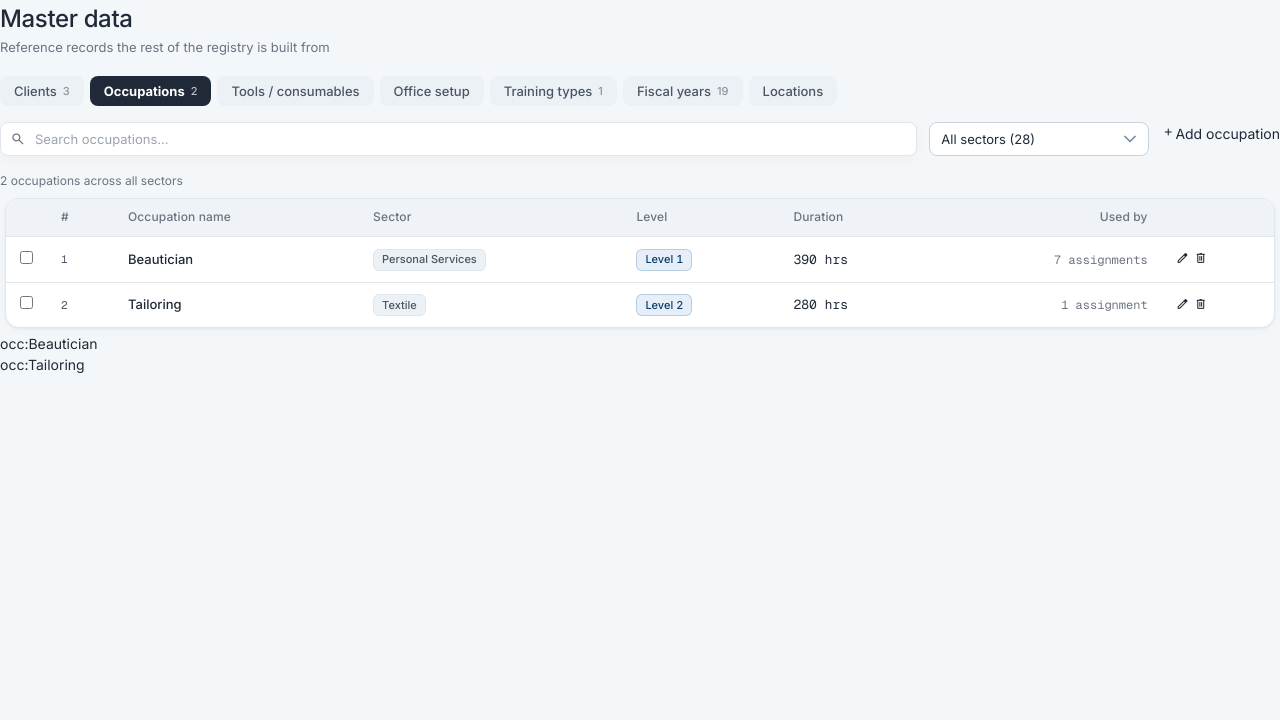
Test: merging occupations from Master Data › removes the merged occupation from every consumer, not just this table
The width and height of the screenshot is (1280, 720).
Click the checkbox named "Select Beautician for merging" at (26, 257), box [20, 251, 33, 264]
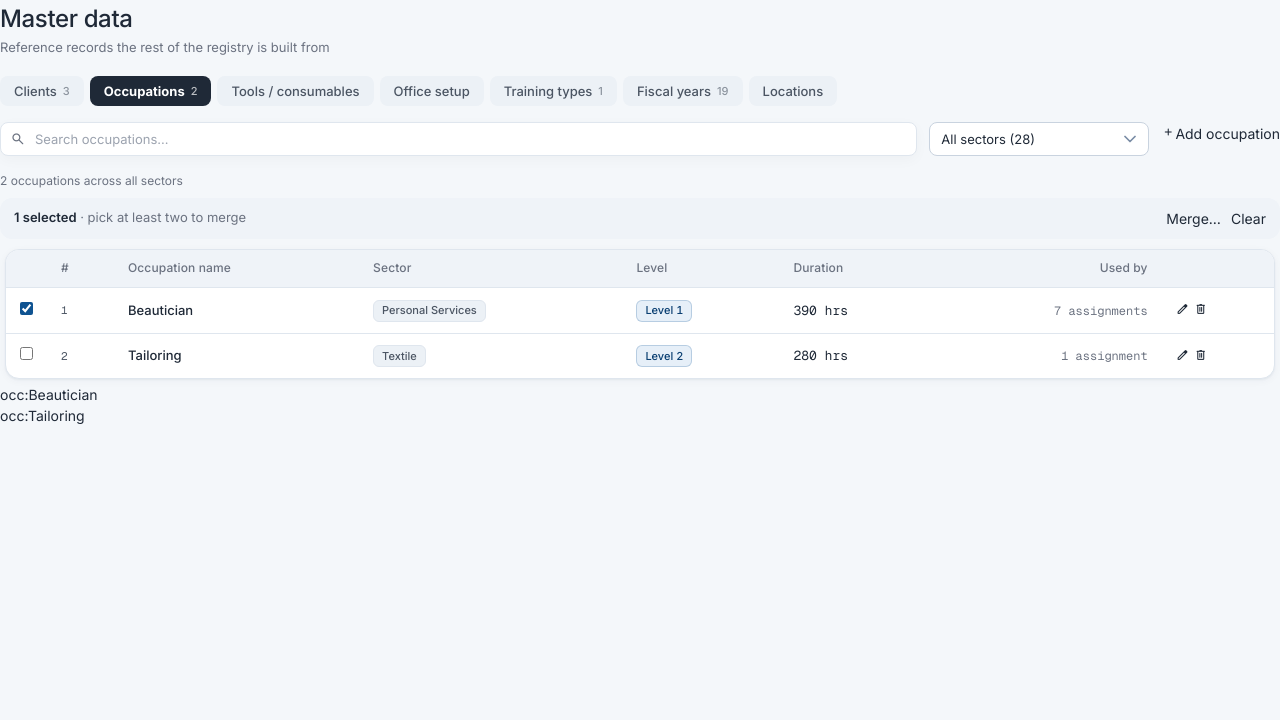
Click the checkbox named "Select Tailoring for merging" at (26, 354), box [20, 347, 33, 360]
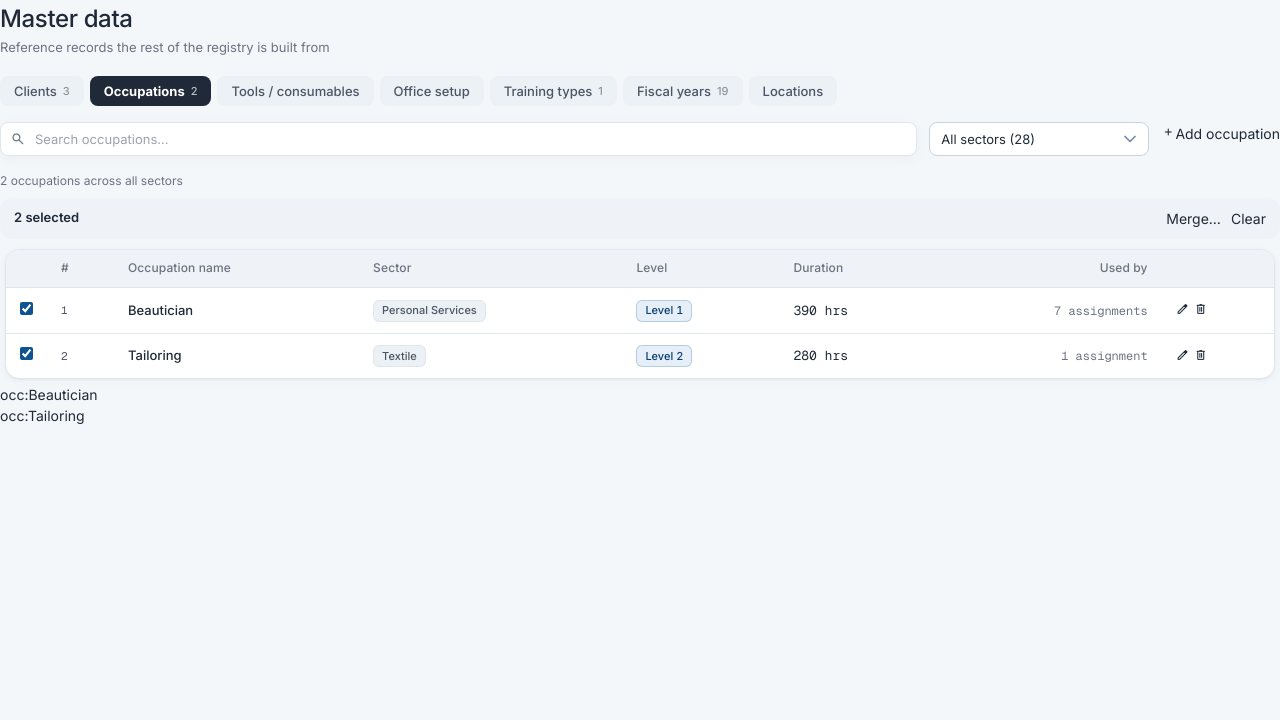
expect the text "Merge…" is shown: met
Click the text "Merge…" at (1194, 218), box [1166, 208, 1221, 229]
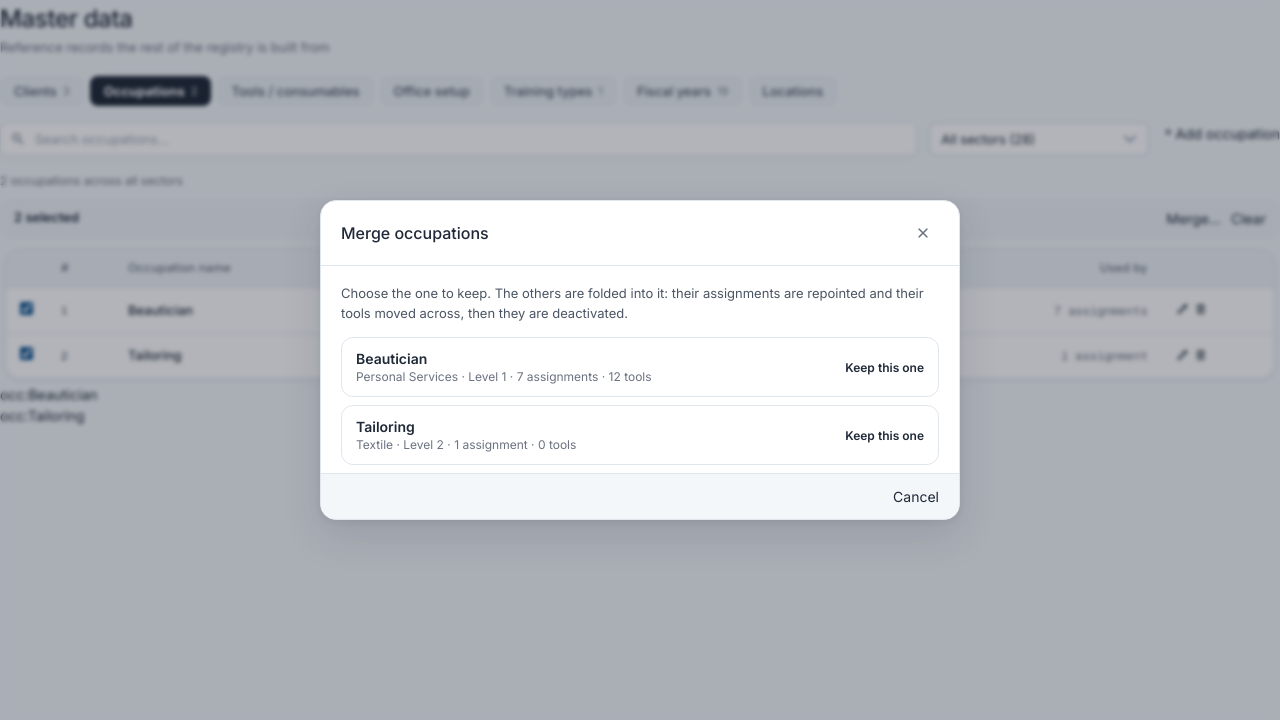
expect the button with class "merge-option" that starts with "Beautician" is shown: met
Click the button with class "merge-option" that starts with "Beautician" at (640, 367), box [341, 337, 939, 397]
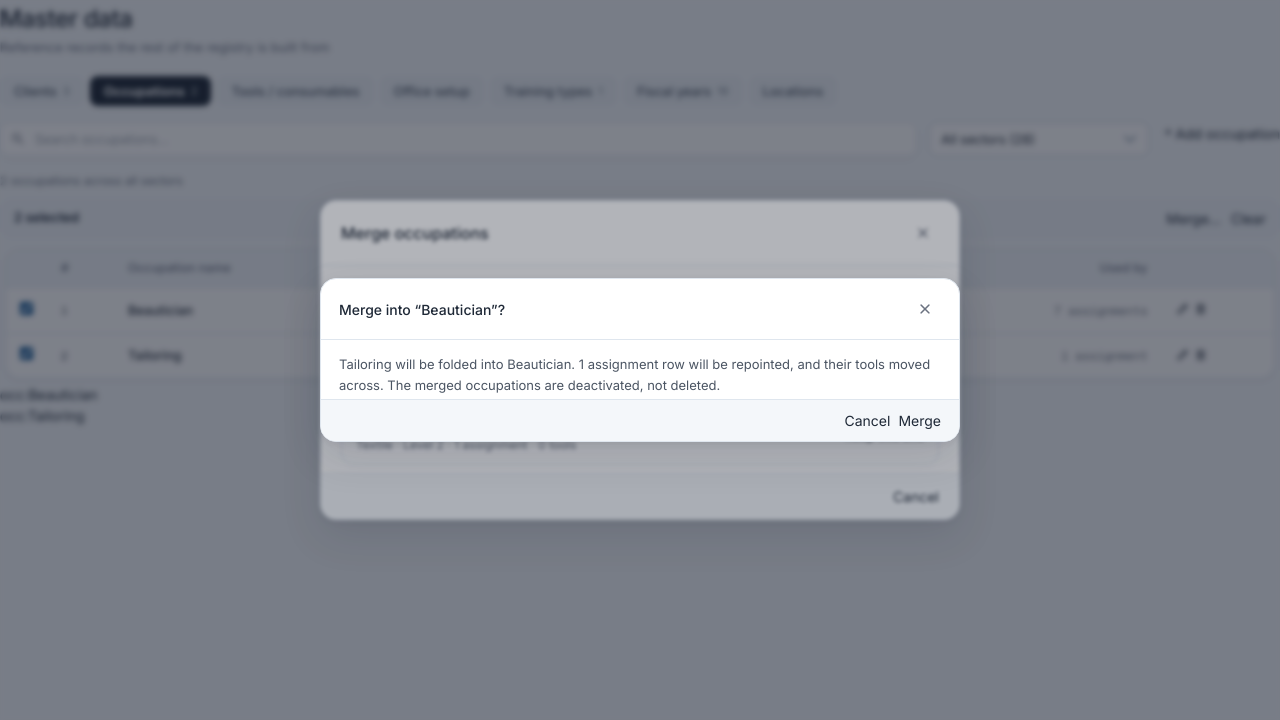
expect the element with class "modal-overlay" that starts with "Merge into “Beautician”?" is shown: met
expect the text "Merge" is shown: met
Click the text "Merge" at (920, 420), box [898, 410, 941, 431]
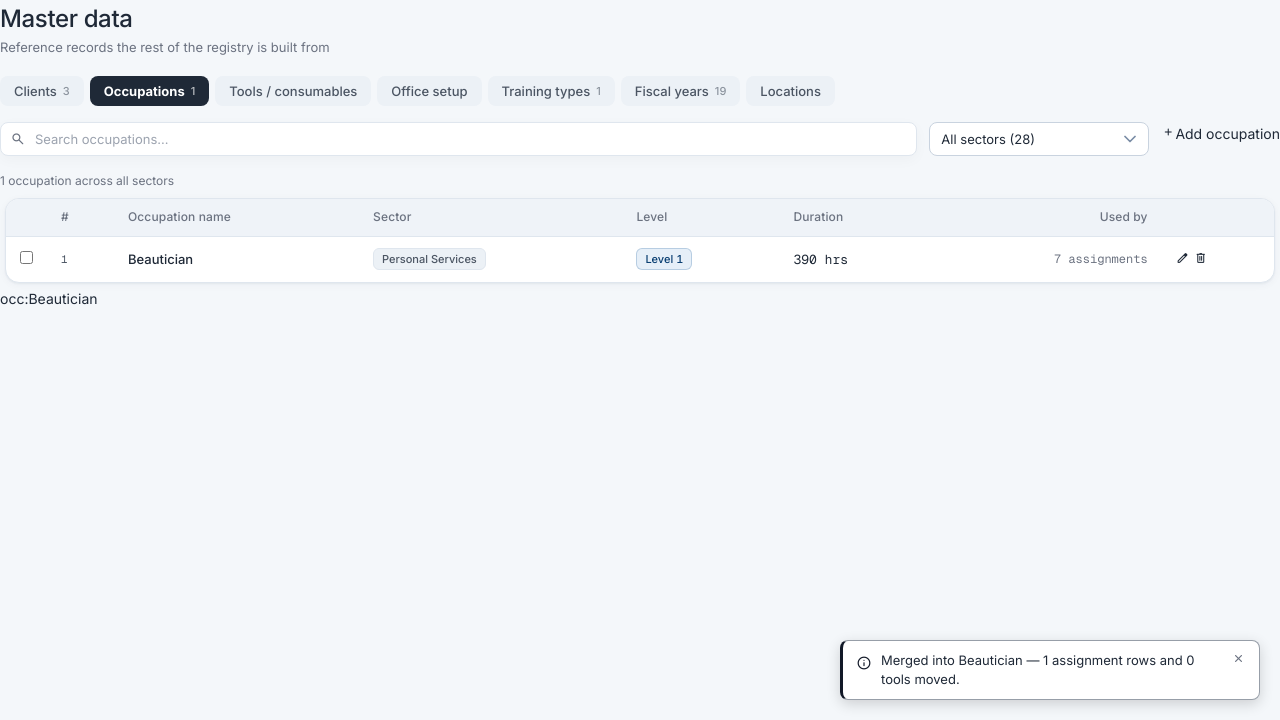
expect the text "occ:Tailoring" is gone: met
expect the button with class "merge-option" is gone: met
expect the element with class "bulk-bar" is gone: met
